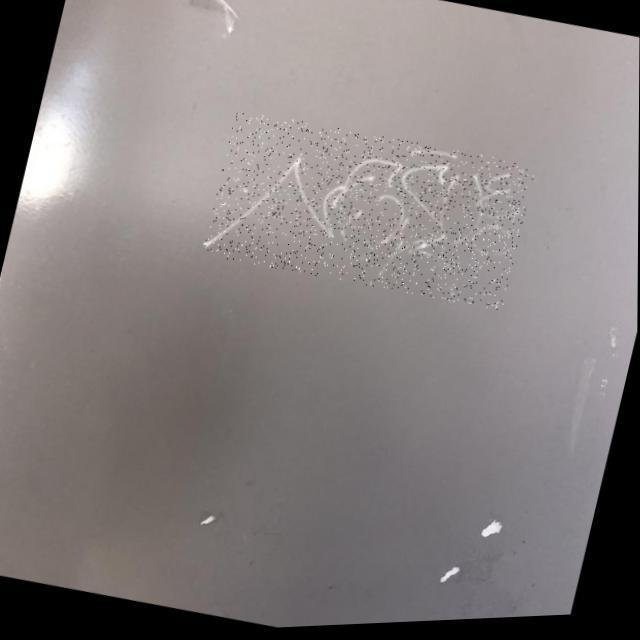-: (202, 100, 536, 326)
